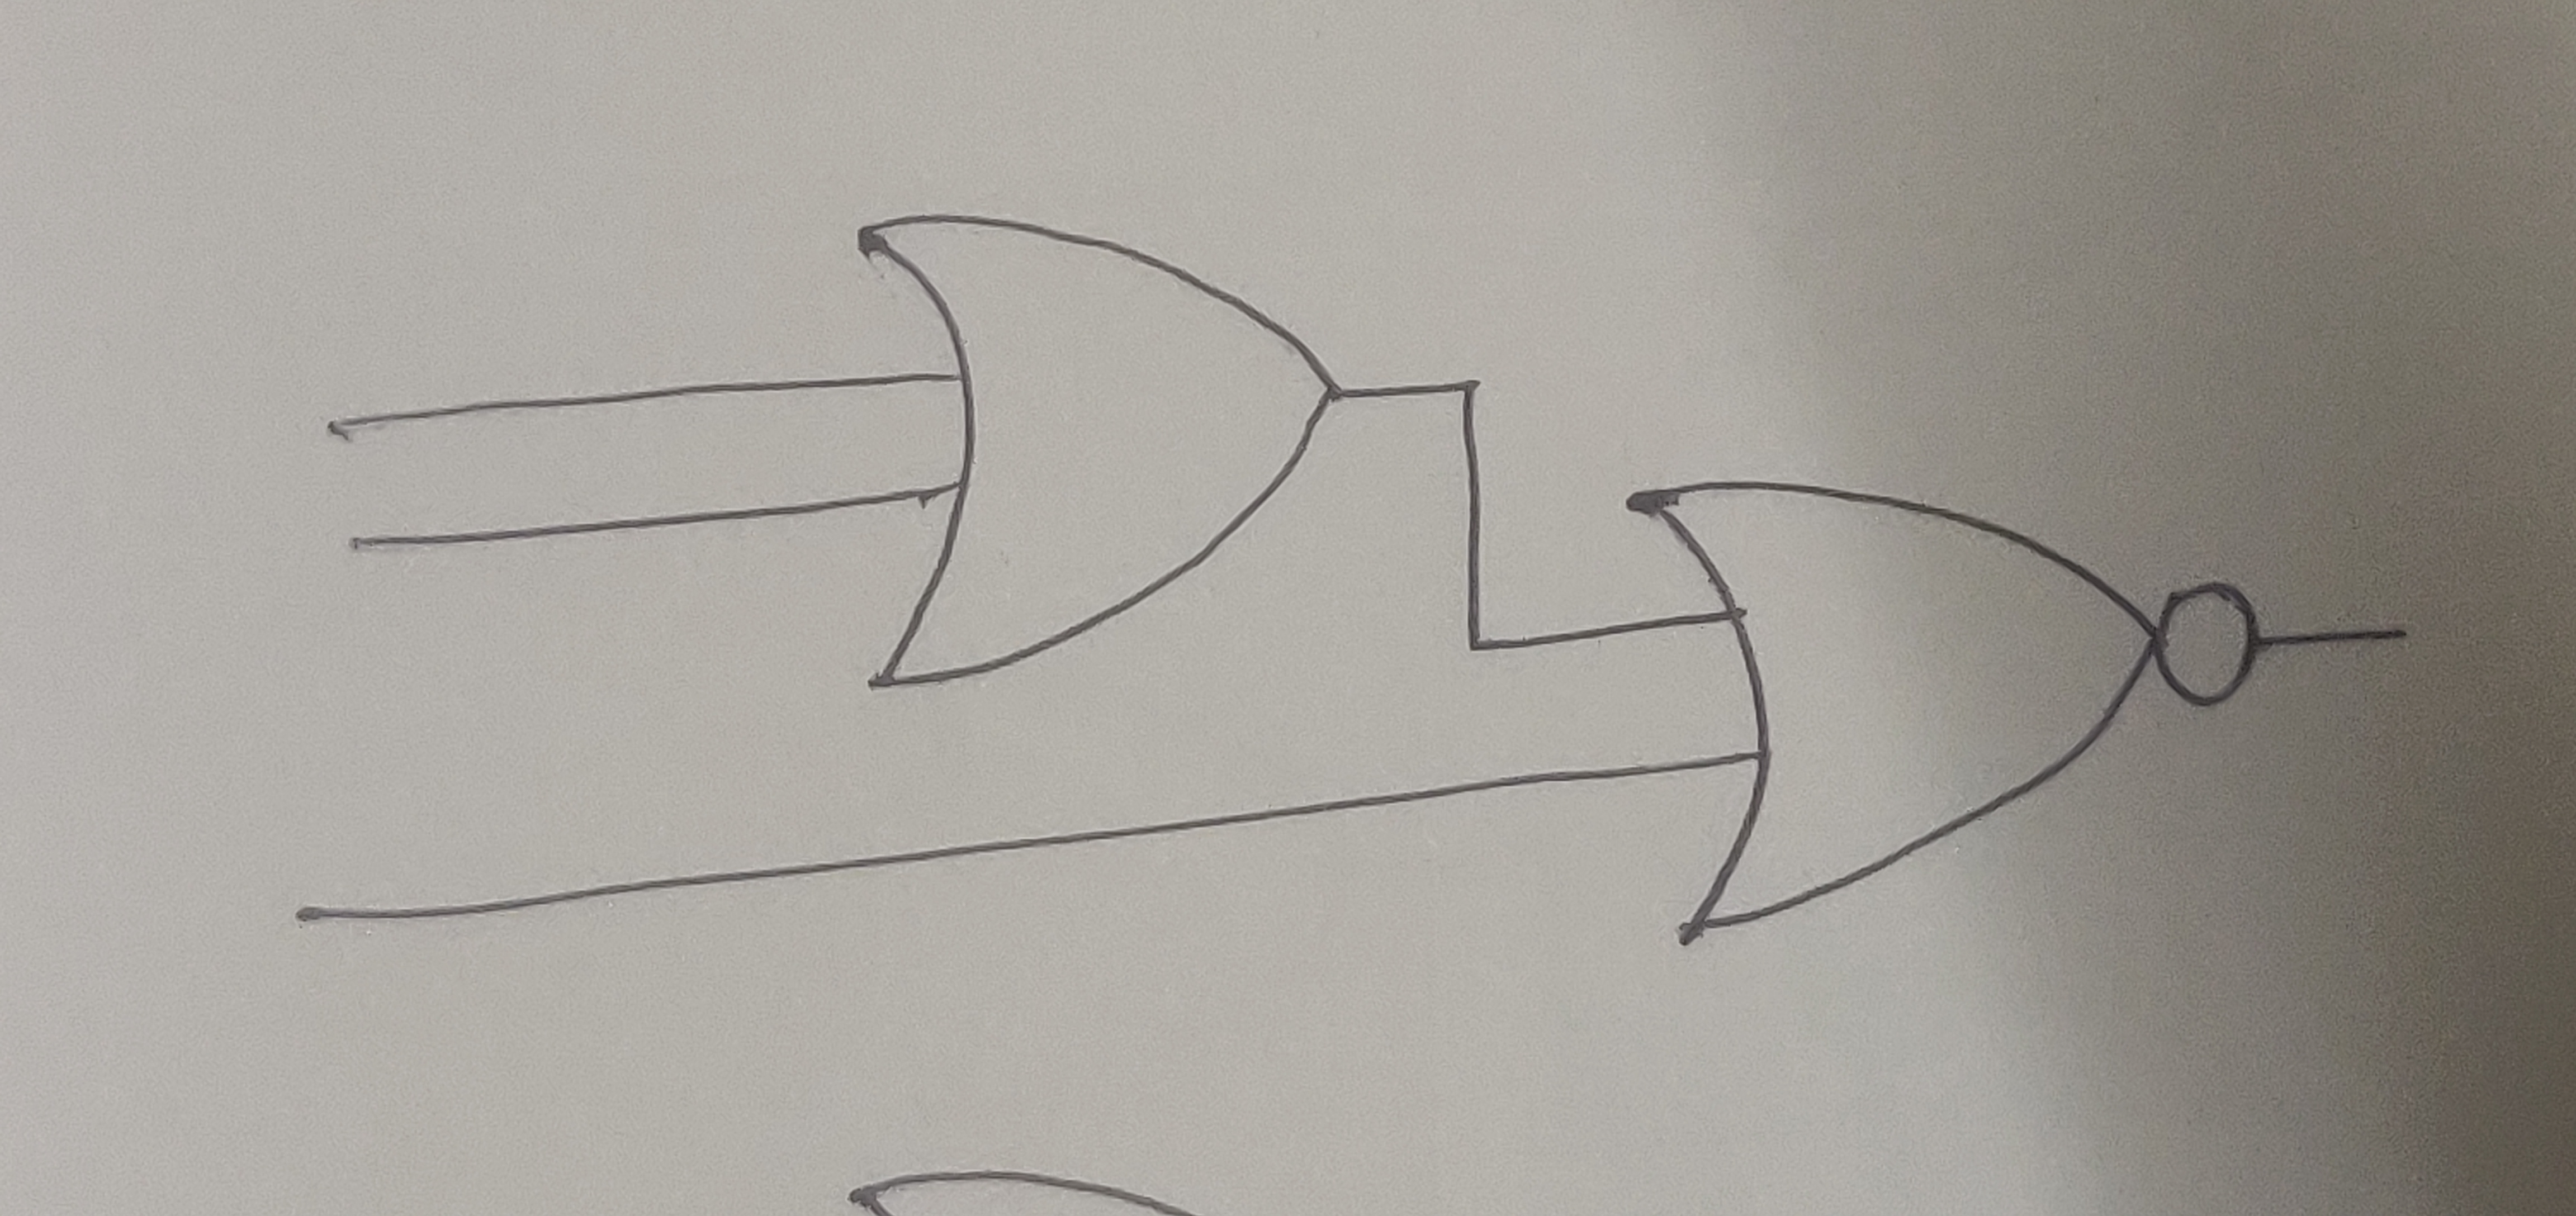not: (2152, 575, 2264, 713)
or: (1613, 477, 2165, 943), (848, 214, 1347, 690)
